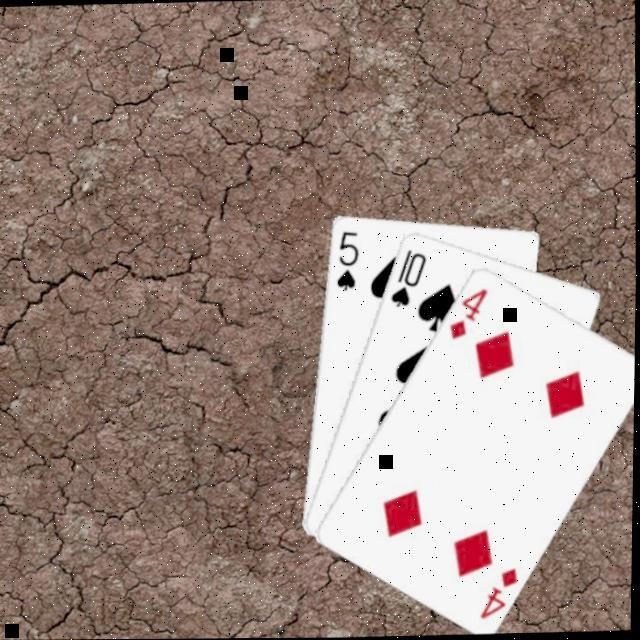10S: (386, 246, 430, 311)
4D: (444, 286, 491, 344), (476, 564, 523, 622)
5S: (331, 227, 363, 294)
